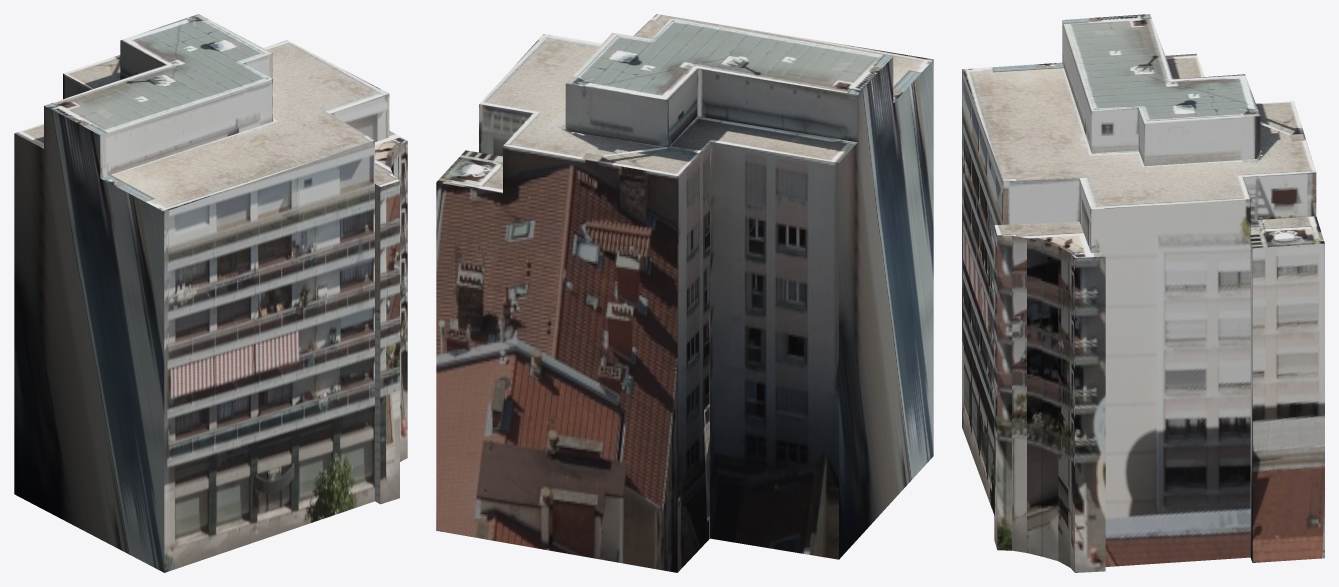
3 views of the same model, side by side, from view 1: azimuth 30°, elevation 25°; view 2: azimuth 150°, elevation 25°; view 3: azimuth 270°, elevation 25° (orthographic). The views are drawn at different scales.
Visible parts, largest first — view 1: Z_UP; view 2: Z_UP; view 3: Z_UP.
Part boxes in pixels (box(x1,y1,x2,y2)): Z_UP: box(14, 14, 407, 572); Z_UP: box(436, 14, 933, 572); Z_UP: box(962, 14, 1324, 572).
Size of the model in its own units: 21.81 by 25.37 by 20.79.
2 materials, 1 textured.
